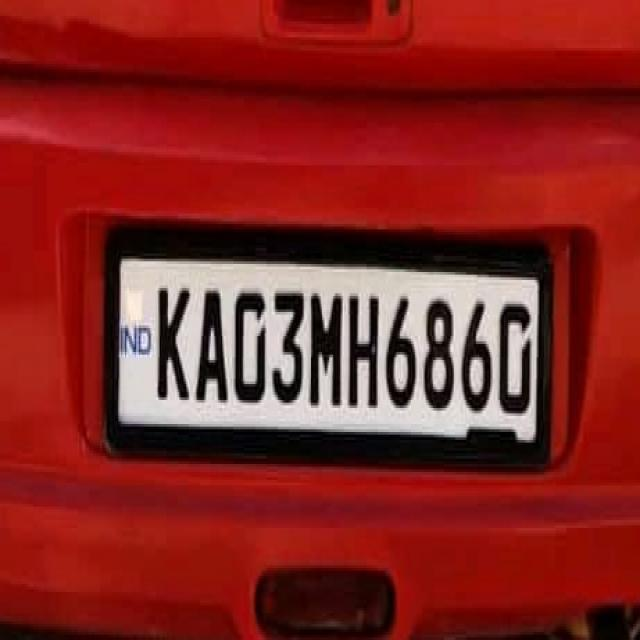0: (497, 296, 535, 426), (232, 280, 269, 410)
3: (270, 284, 307, 409)
6: (384, 288, 417, 425), (462, 289, 495, 419)
8: (420, 298, 460, 417)
A: (196, 273, 230, 412)
H: (346, 279, 382, 418)
K: (152, 263, 192, 412)
M: (307, 286, 345, 414)
